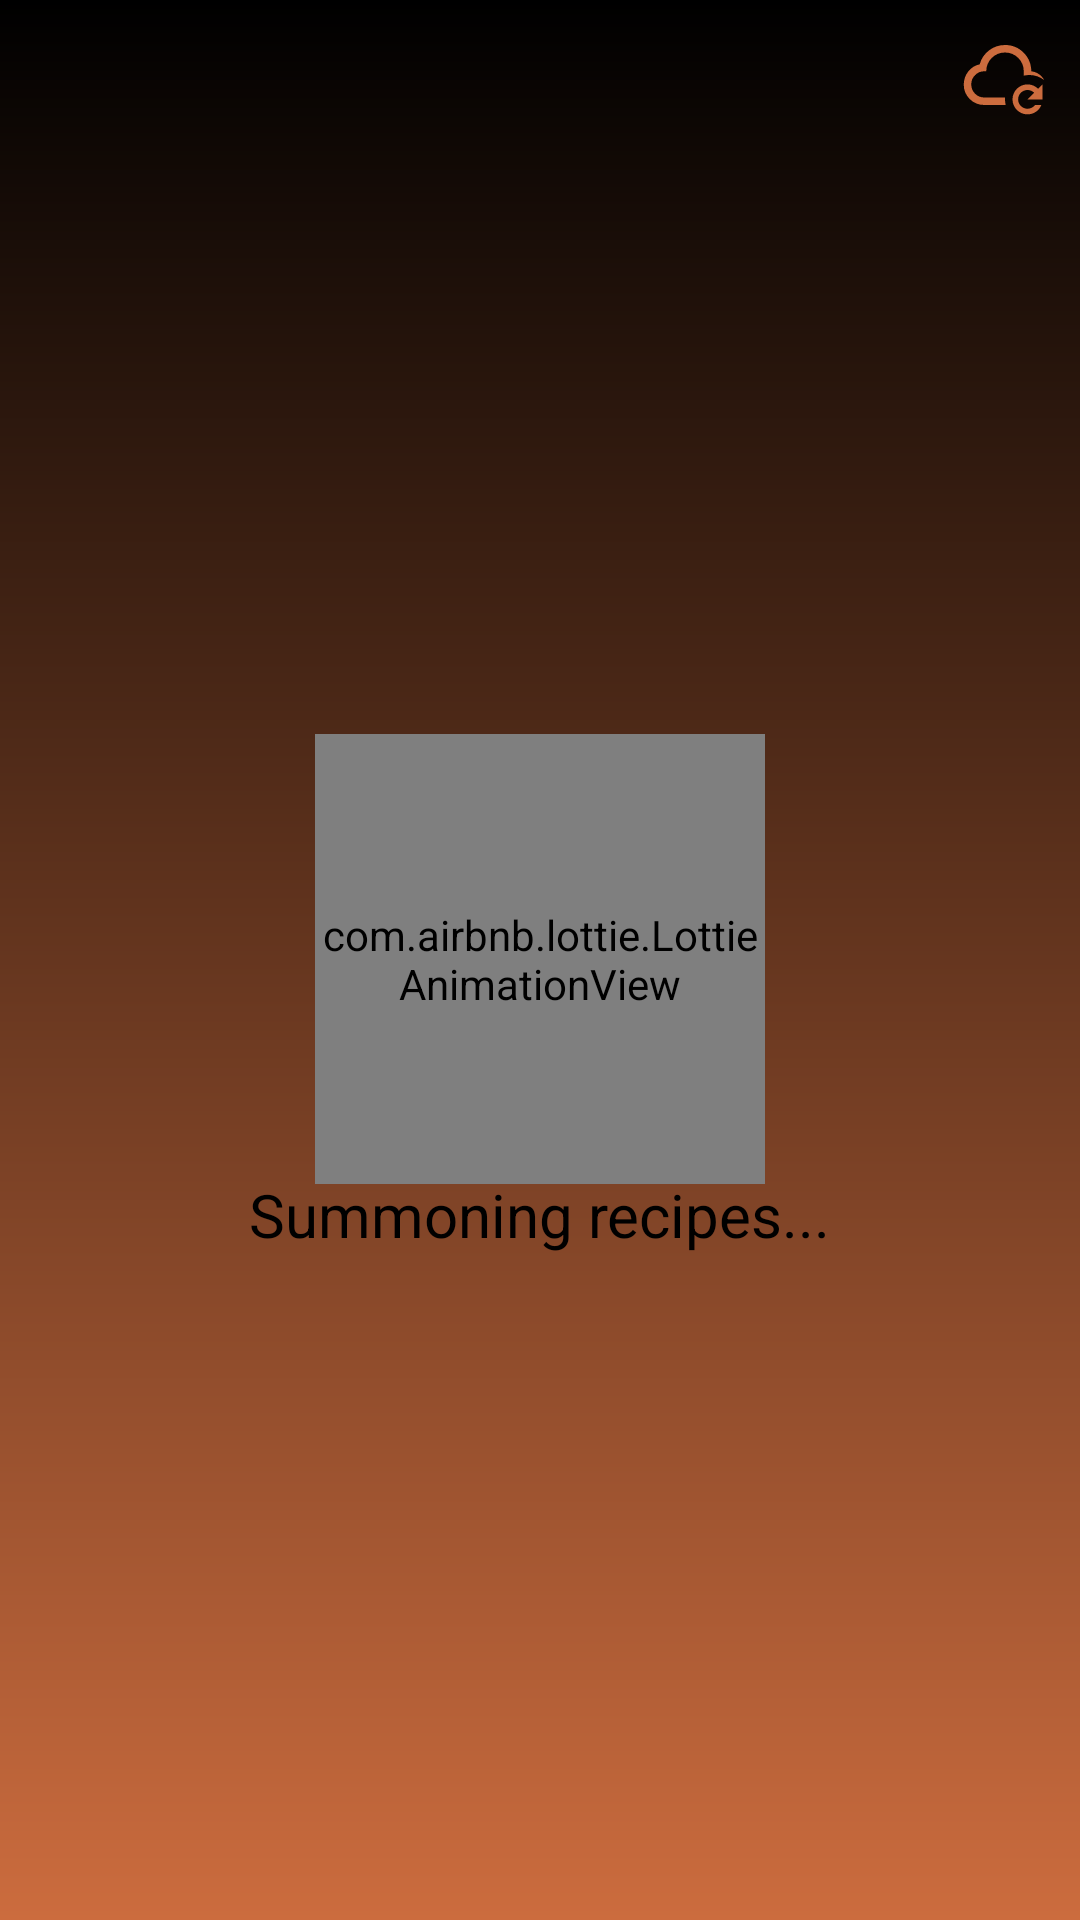

Where icons sit on this 1080w x 1920h app screen, as rect(x1, y1, x2, y2):
cloud refresh: rect(963, 45, 1044, 115)
